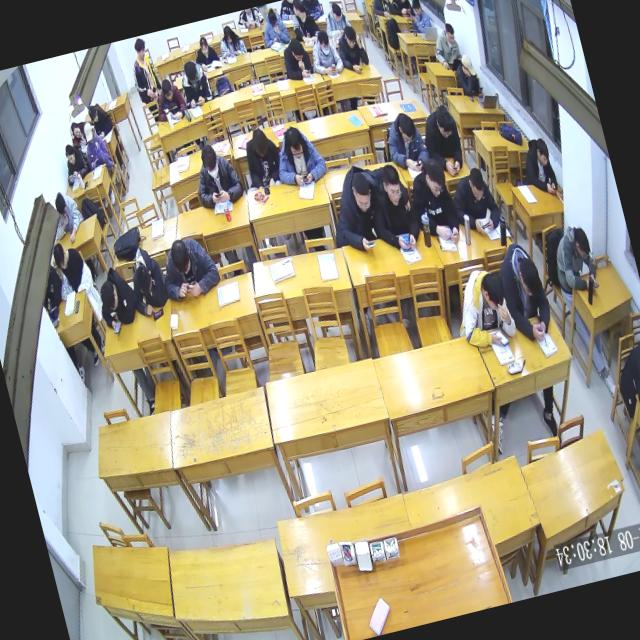bow: (154, 231, 222, 304), (122, 243, 172, 317), (90, 262, 142, 330), (609, 334, 640, 420), (48, 186, 86, 242), (150, 75, 188, 122), (279, 36, 314, 81), (58, 140, 92, 184), (85, 100, 115, 140), (67, 118, 88, 148)
down: (478, 270, 507, 312), (515, 255, 543, 298), (379, 162, 405, 206), (348, 170, 374, 213), (422, 162, 450, 198), (168, 238, 192, 276), (198, 143, 221, 180), (96, 278, 120, 312), (432, 104, 454, 138), (467, 167, 488, 202), (571, 226, 592, 260), (284, 124, 304, 158), (132, 262, 153, 293), (396, 113, 416, 145), (250, 126, 270, 157), (534, 137, 552, 167), (458, 51, 477, 78), (50, 244, 68, 272), (316, 30, 332, 56), (182, 60, 199, 83), (52, 194, 68, 218), (342, 24, 358, 48), (289, 38, 305, 60), (159, 79, 174, 102), (81, 122, 96, 144), (132, 36, 147, 58), (329, 2, 344, 23), (62, 146, 76, 166), (221, 24, 234, 44), (86, 106, 100, 124), (266, 7, 278, 28), (444, 22, 456, 43), (198, 36, 210, 56), (409, 0, 423, 17), (70, 121, 82, 138)
sit: (444, 261, 520, 355), (320, 159, 392, 257), (493, 237, 557, 346), (404, 161, 464, 248), (368, 160, 423, 254), (546, 222, 602, 298), (268, 120, 328, 190), (188, 138, 245, 210), (448, 165, 504, 238), (418, 104, 468, 178), (381, 108, 432, 176), (240, 124, 286, 190), (517, 134, 560, 198), (50, 236, 94, 298), (125, 36, 164, 104), (334, 22, 371, 76), (306, 28, 345, 78), (176, 57, 214, 108), (78, 117, 112, 172), (428, 21, 464, 70), (451, 51, 485, 100), (286, 0, 321, 46), (256, 5, 291, 47), (320, 1, 352, 39), (215, 23, 247, 60), (190, 34, 220, 72), (405, 0, 433, 34), (366, 0, 393, 19), (386, 0, 414, 18)
